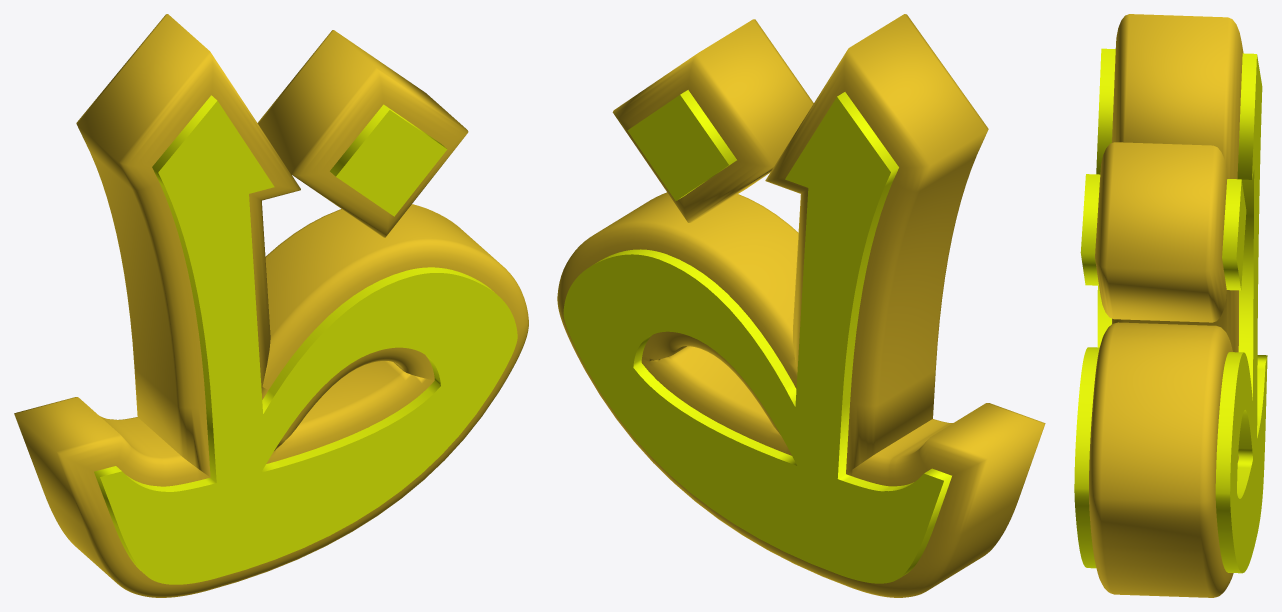
The picture shows the model from 3 angles, left to right: view 1: azimuth 30°, elevation 25°; view 2: azimuth 150°, elevation 25°; view 3: azimuth 270°, elevation 25°; orthographic projection.
Visible parts, largest first — view 1: text 2, Text; view 2: text 2, Text; view 3: text 2, Text.
Boxes of the visible parts, <box> form: text 2: <box>14,14,528,597</box>; Text: <box>94,95,517,584</box>; text 2: <box>557,14,1045,597</box>; Text: <box>563,90,951,583</box>; text 2: <box>1089,14,1243,597</box>; Text: <box>1074,48,1267,573</box>.
Bounding box in the file's own units: 41.6 × 46.77 × 15.04.
